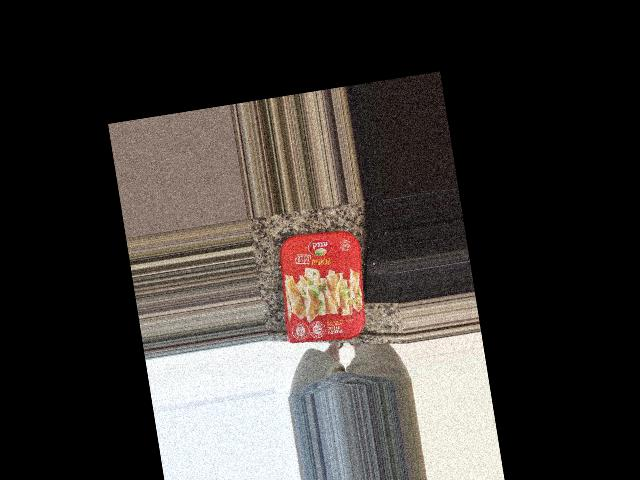cheese: (285, 246, 389, 368)
